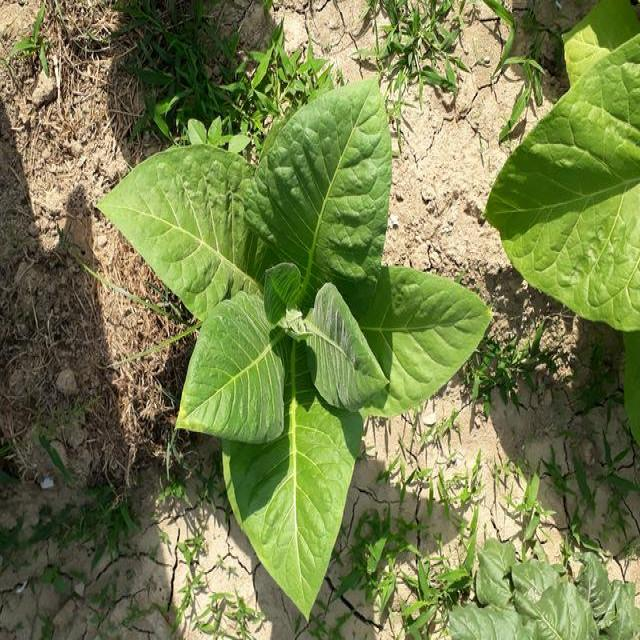crop: (89, 69, 498, 616)
